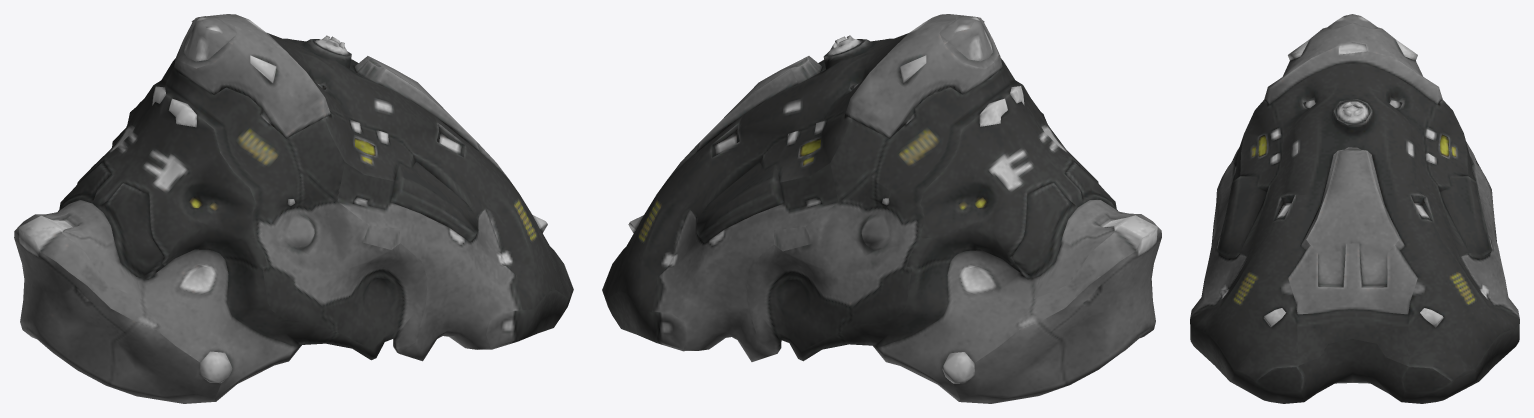
Rendered from CyberneticMask_Ground.fbx.
3 views of the same model, side by side, from view 1: azimuth 30°, elevation 25°; view 2: azimuth 150°, elevation 25°; view 3: azimuth 270°, elevation 25° (orthographic). The views are drawn at different scales.
Visible parts, largest first — view 1: Mask10; view 2: Mask10; view 3: Mask10.
Boxes of the visible parts, box(x1,y1,x2,y2) form: Mask10: box(14, 14, 573, 403); Mask10: box(602, 14, 1161, 403); Mask10: box(1190, 14, 1519, 403).
Size of the model in its own units: 0.158 by 0.1004 by 0.1116.
